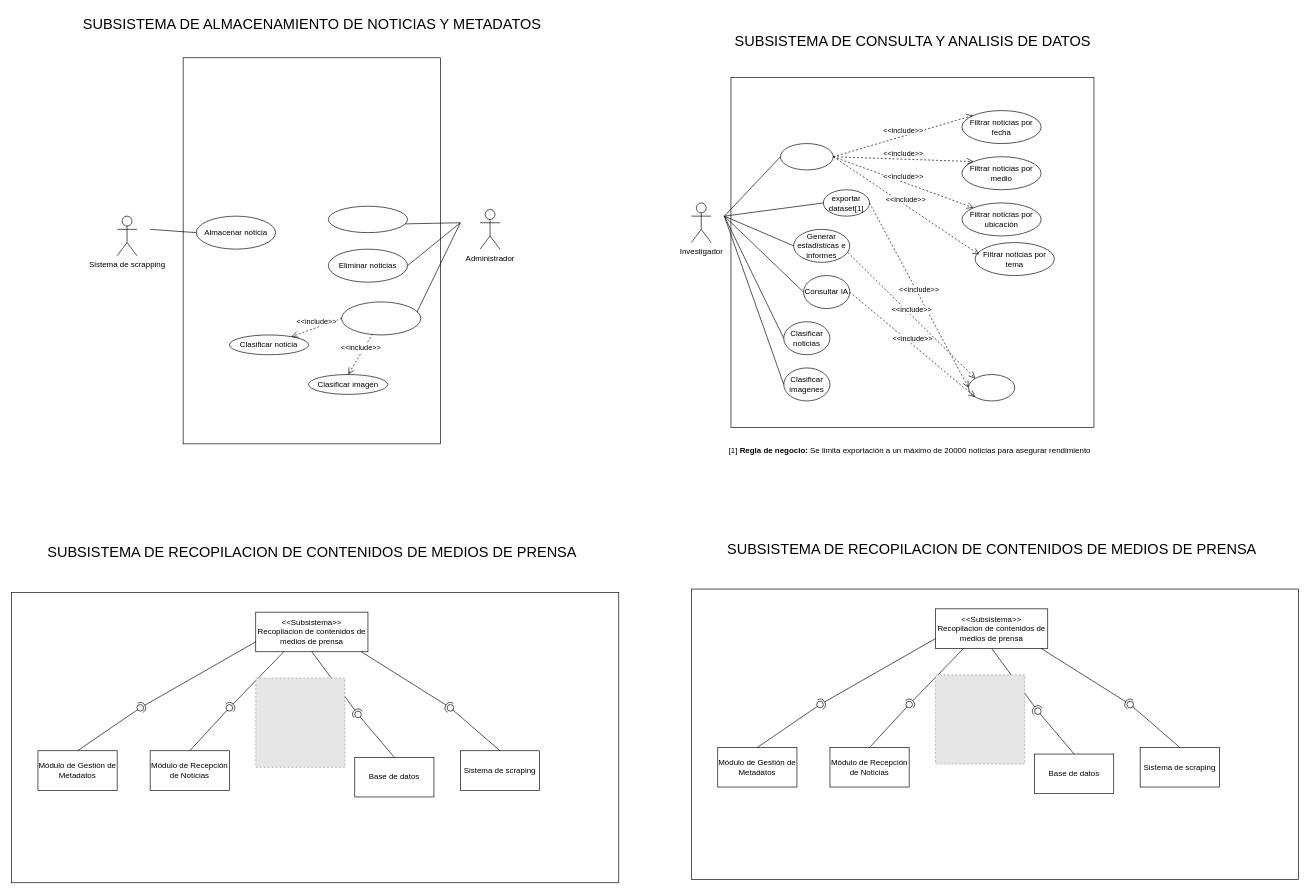
This 1310x894 diagram has some shape labels left out. Grey dashed boxes stand in for pictures. The box of each missing label's shape, as (x1, y1, x2, y2) in pixels:
Actualizar noticia: (328, 206, 408, 233)
Autenticar usuario: (968, 374, 1015, 401)
Buscar noticias: (780, 143, 833, 170)
Gestionar metadatos: (341, 301, 421, 335)
